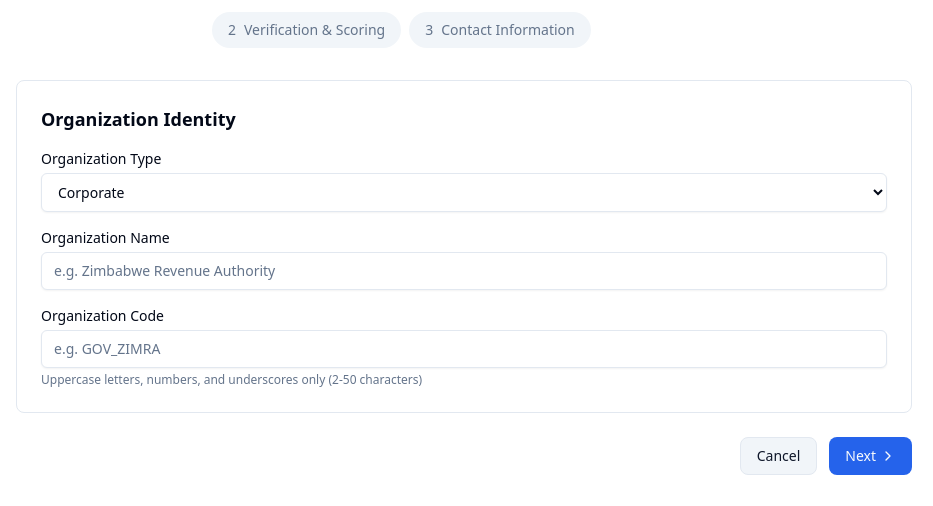
Test: OrganizationWizard › validates API endpoint required when method is api
The width and height of the screenshot is (933, 506).
Type "Test Organization" into the field labelled "Organization Name".
click(464, 271); type("Test Organization")  # box 41,252 -> 887,290
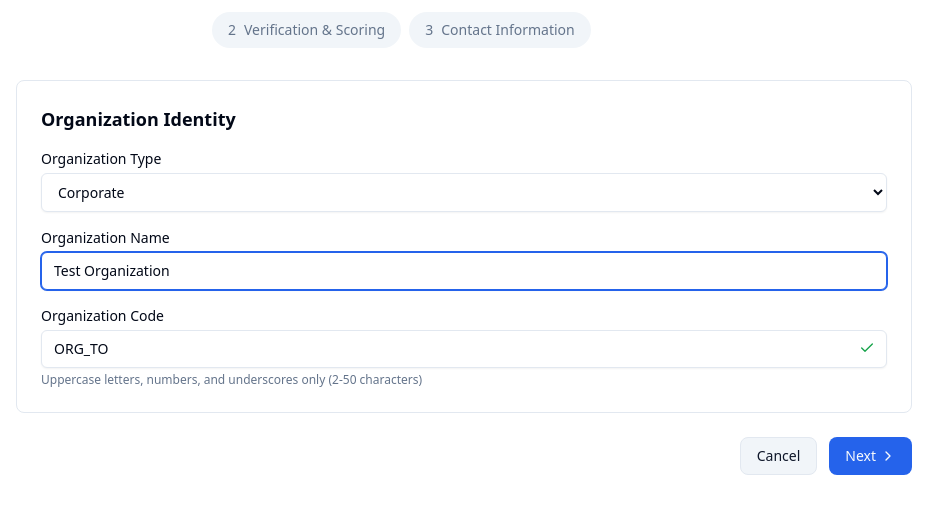
Replace the text in the field labelled "Organization Code" with "TEST_ORG" at (464, 349), box 41,330 -> 887,368
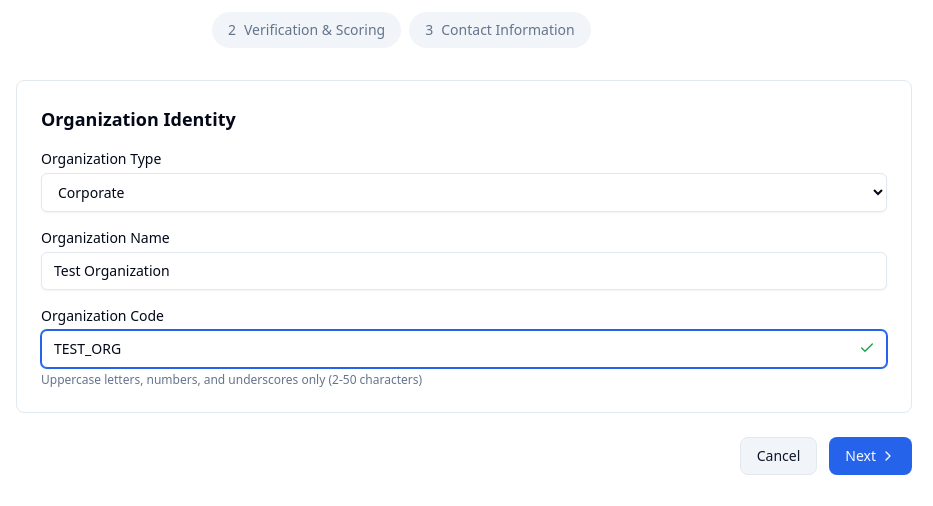
Click the button "Next".
click(871, 456)  # box 829,437 -> 912,475
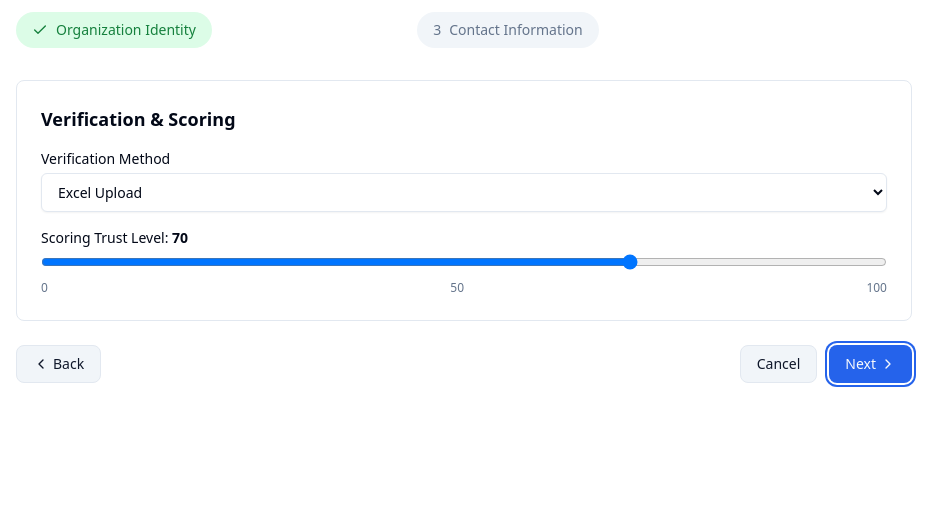
Result: the heading "Verification & Scoring" is shown at 41,107 -> 236,131
Select "API" in the dropdown labelled "Verification Method" at (464, 192), box 41,173 -> 887,212
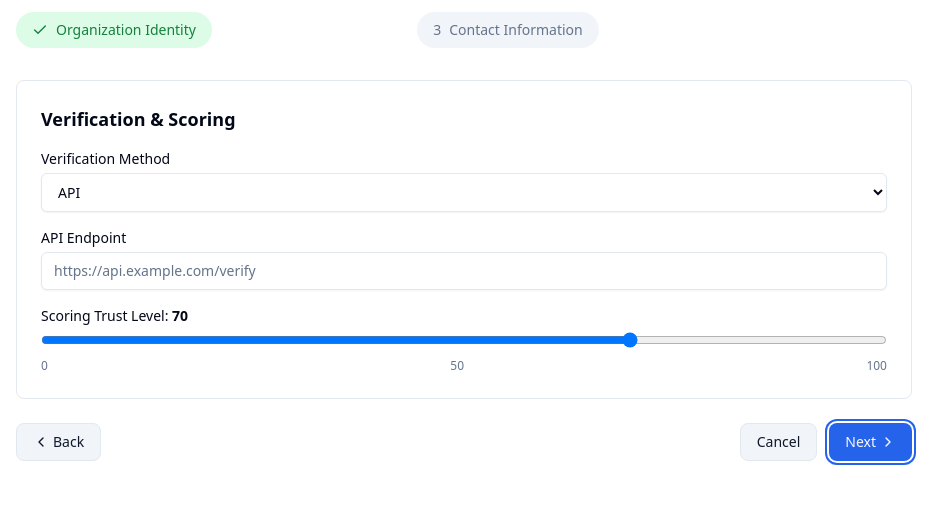
Result: the field labelled "API Endpoint" is shown at 41,252 -> 887,290
Click the button "Next".
click(871, 442)  # box 829,423 -> 912,461
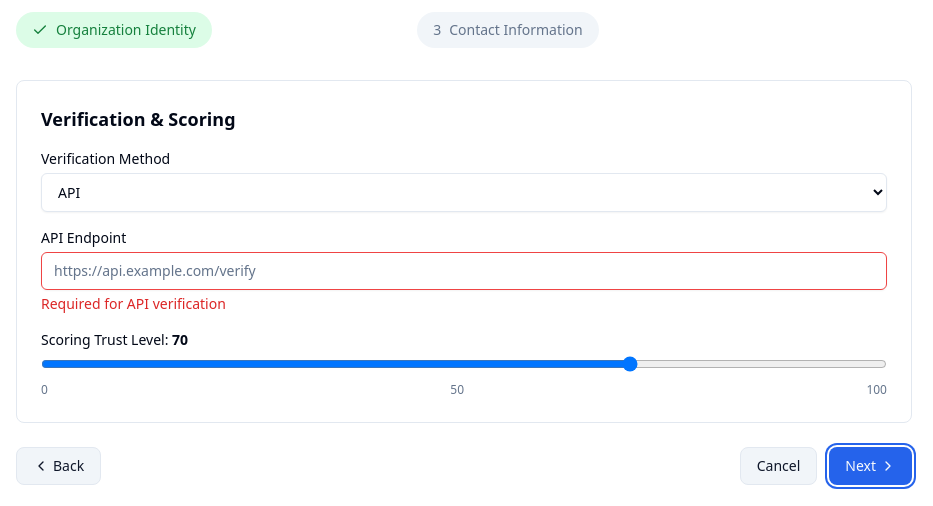
Result: the text "Required for API verification" is shown at 41,294 -> 226,313
